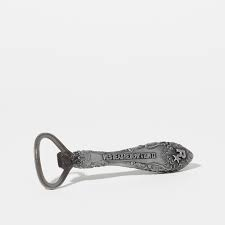bottleopener: (32, 131, 194, 190)
